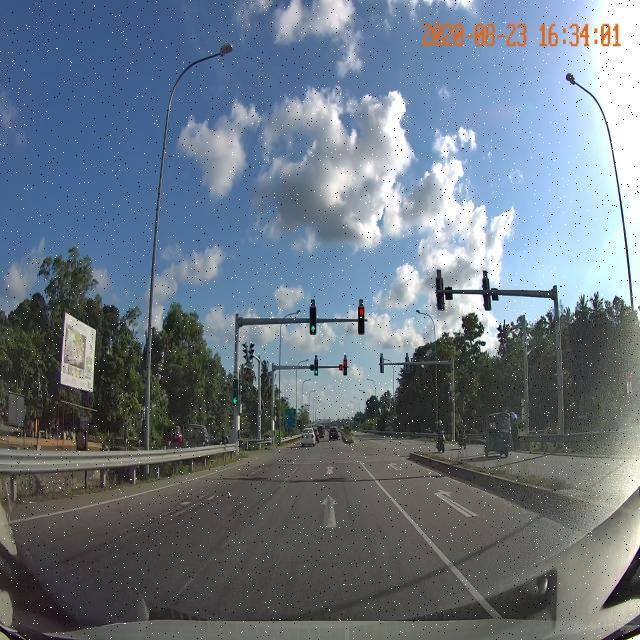forward: (227, 493, 425, 538)
